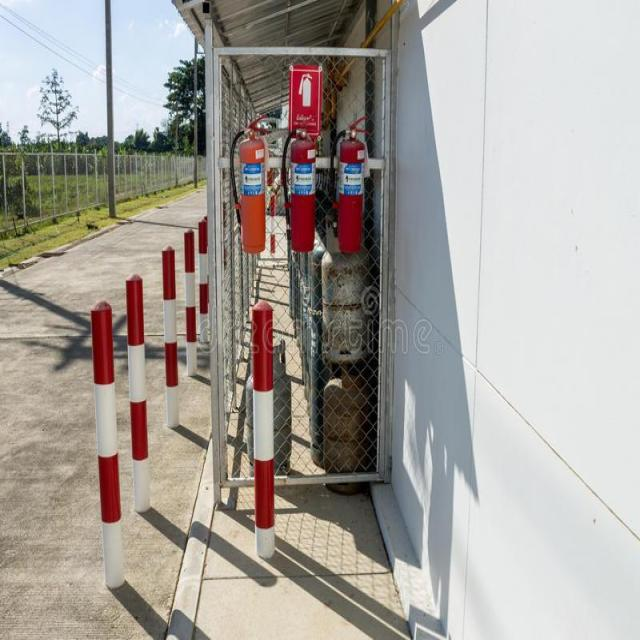fire_extinguisher: (326, 110, 372, 254), (280, 110, 322, 254), (228, 111, 270, 255)
